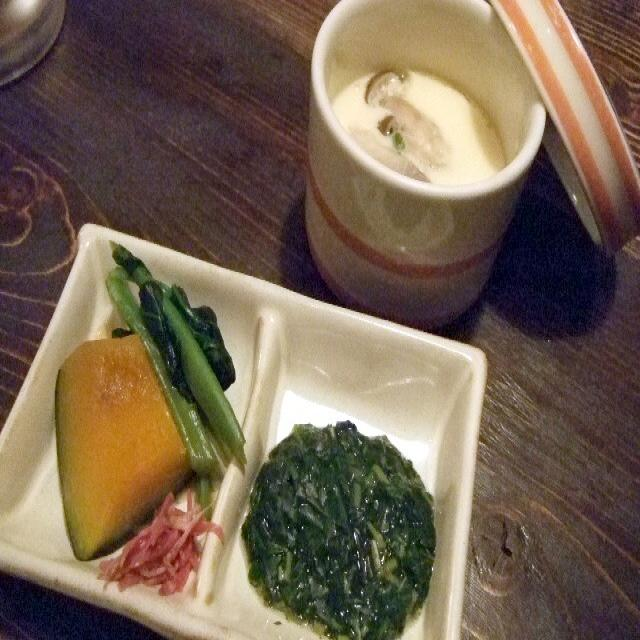鸡蛋料理: (284, 0, 565, 309)
